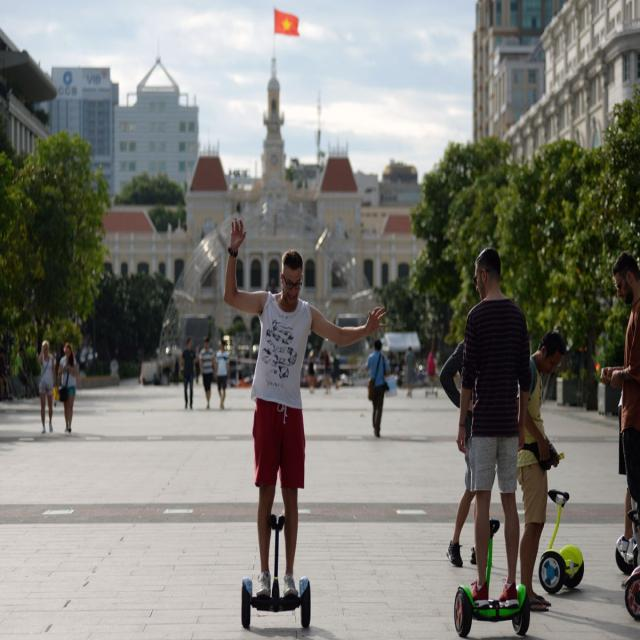body: (222, 216, 389, 600), (455, 246, 532, 611), (513, 329, 566, 613), (600, 252, 640, 590), (438, 337, 493, 569), (616, 386, 638, 561), (364, 337, 390, 438), (138, 347, 202, 385), (0, 346, 39, 397), (57, 342, 78, 432), (38, 338, 56, 434), (180, 337, 198, 410), (198, 336, 216, 408), (214, 338, 230, 410), (13, 345, 34, 398), (26, 339, 41, 397), (403, 345, 416, 399), (321, 349, 333, 396), (426, 347, 436, 394), (391, 352, 404, 385), (308, 348, 316, 393), (332, 350, 341, 390), (108, 359, 121, 384), (267, 278, 277, 292)
